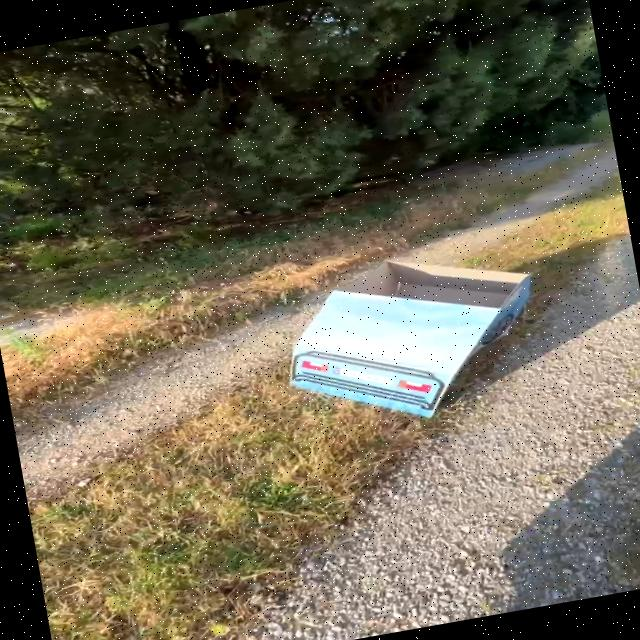blue_car: (235, 208, 595, 464)
